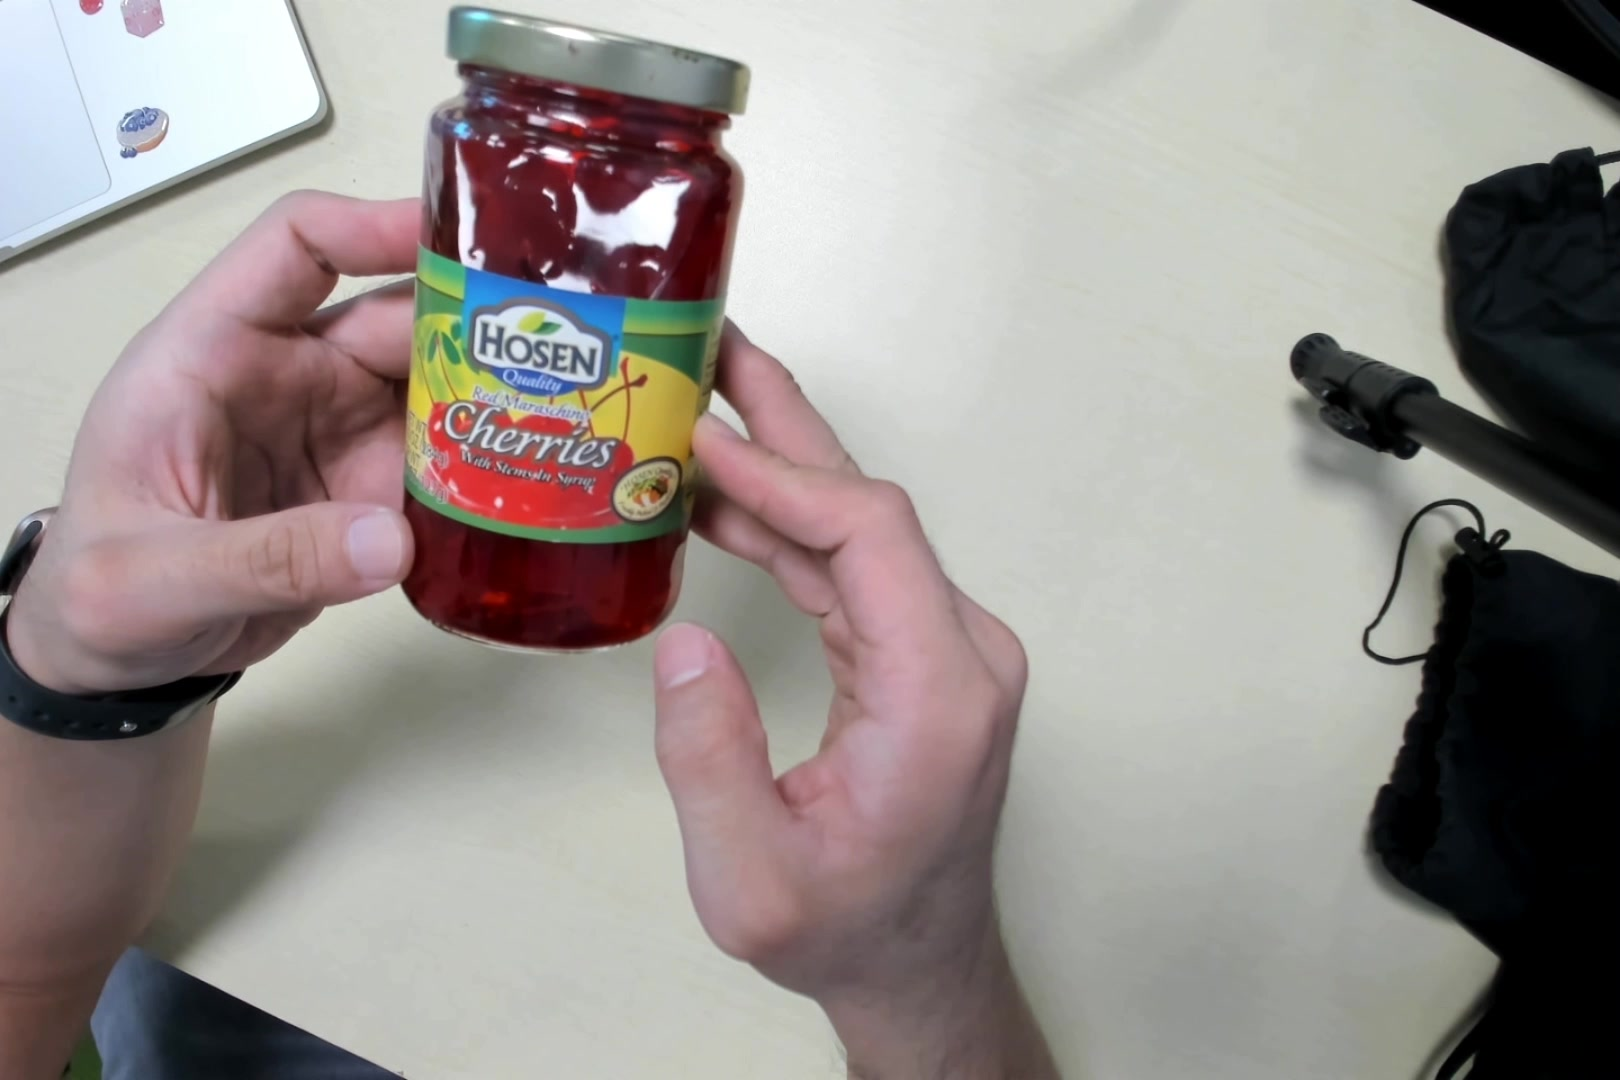OtherBakingNeeds_200-299g_NonHalal_NonHealthy: (401, 4, 745, 657)
